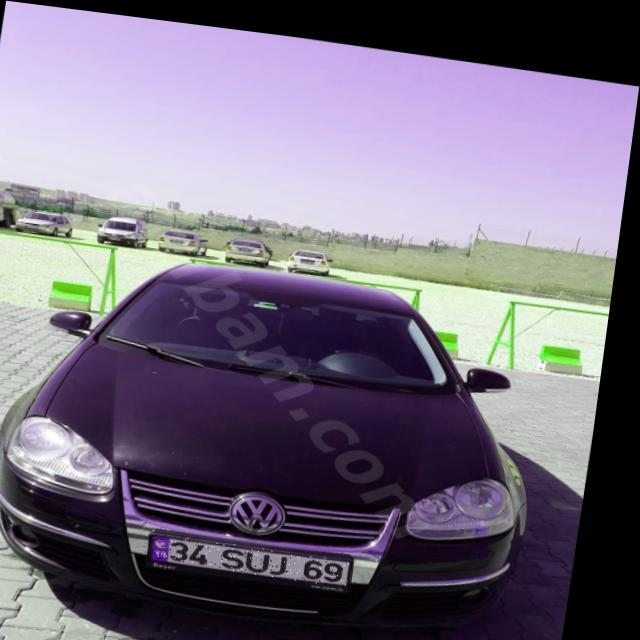license_plate: (162, 526, 365, 577)
